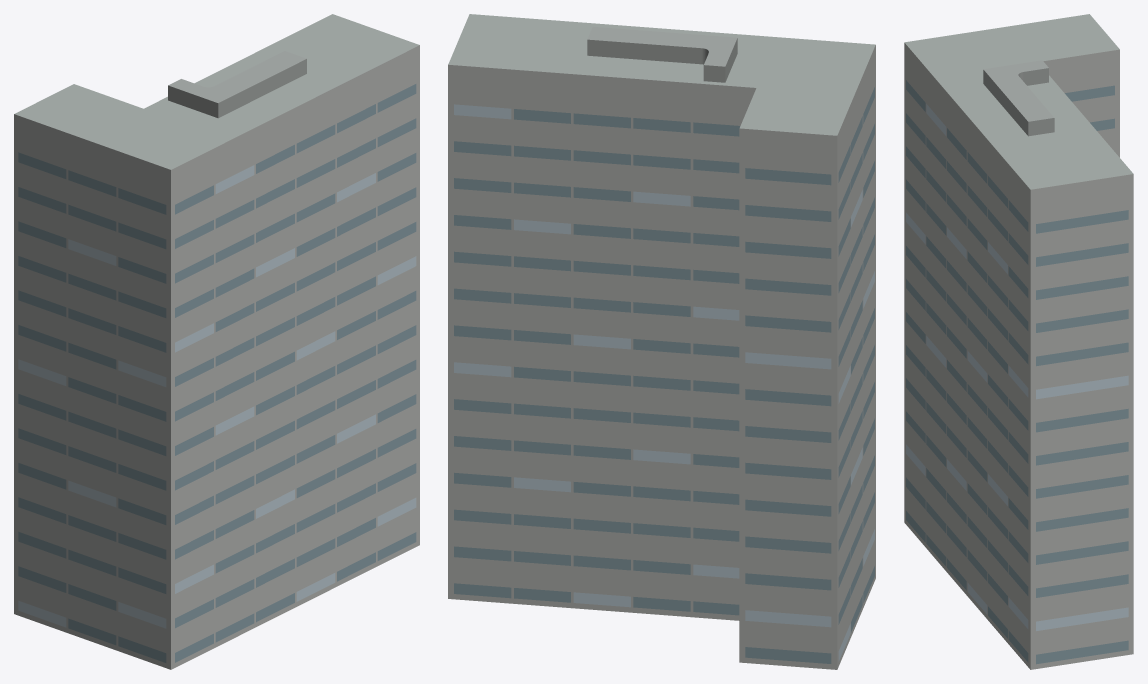
The model's file is fallback-songpa-helio-city-314.glb.
3 views of the same model, side by side, from view 1: azimuth 30°, elevation 25°; view 2: azimuth 150°, elevation 25°; view 3: azimuth 270°, elevation 25° (orthographic). The views are drawn at different scales.
Parts seen in each view (by area): view 1: fallback-songpa-helio-city-314; view 2: fallback-songpa-helio-city-314; view 3: fallback-songpa-helio-city-314.
Boxes of the visible parts, bbox=[...] form: fallback-songpa-helio-city-314: bbox=[14, 14, 419, 669]; fallback-songpa-helio-city-314: bbox=[448, 14, 875, 669]; fallback-songpa-helio-city-314: bbox=[904, 14, 1133, 669].
Size of the model in its own units: 62.49 by 82 by 34.46.
